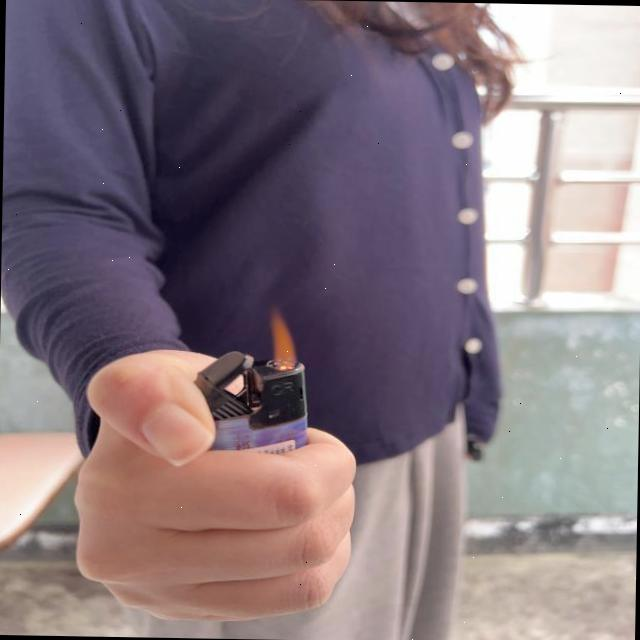fire: (262, 304, 300, 374)
